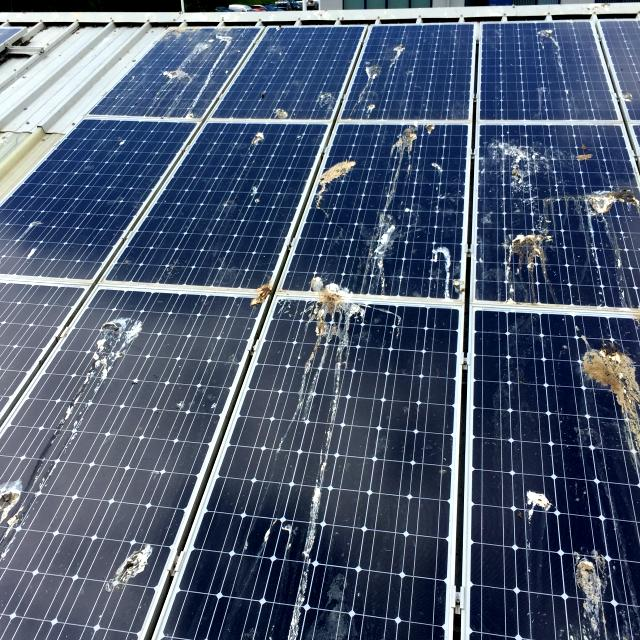bird: (557, 333, 640, 451), (153, 2, 237, 110), (300, 270, 375, 368), (90, 282, 162, 382), (488, 211, 562, 303), (554, 546, 626, 640), (105, 509, 167, 604), (493, 120, 552, 213), (0, 466, 71, 542), (498, 476, 571, 537), (589, 160, 640, 246), (400, 235, 459, 302), (360, 28, 420, 84), (242, 276, 292, 342), (302, 136, 350, 200), (394, 110, 425, 171)
